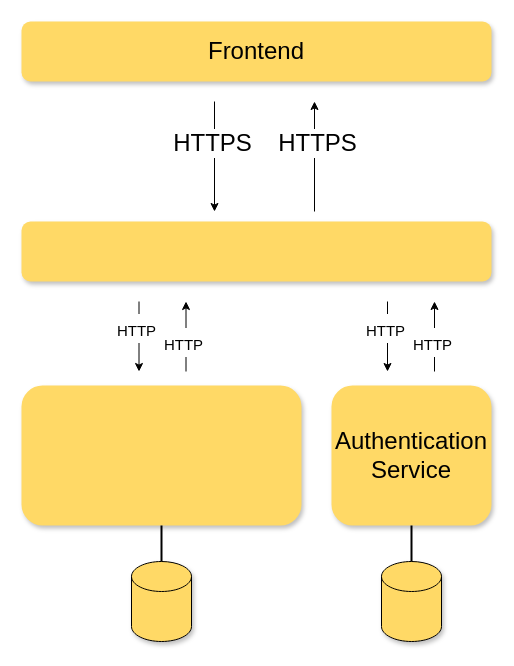
Some shapes in this 514 by 666 pixel diagram are drawn without their labels. Here are the shapes that lost their labels. From the top down, the centre of each, then its label:
At point 257,252: "API".
At point 162,456: "Business Logic".
